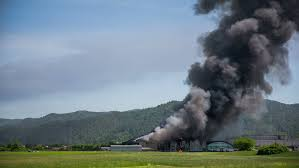smoke: (193, 1, 299, 86), (191, 88, 269, 125), (150, 119, 220, 141), (174, 92, 189, 125)
